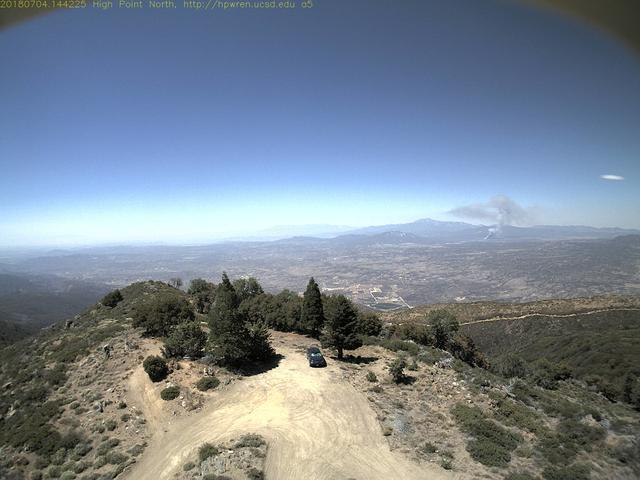smoke: (444, 191, 548, 248)
